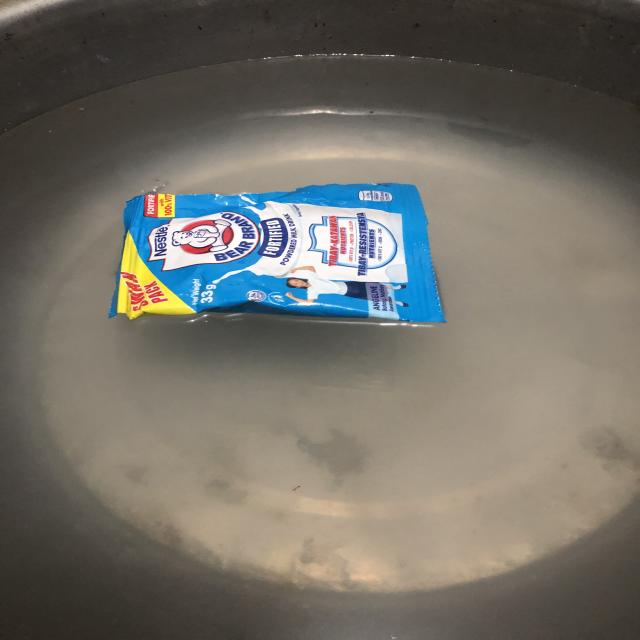Plastic Wrapper: (108, 173, 448, 340)
